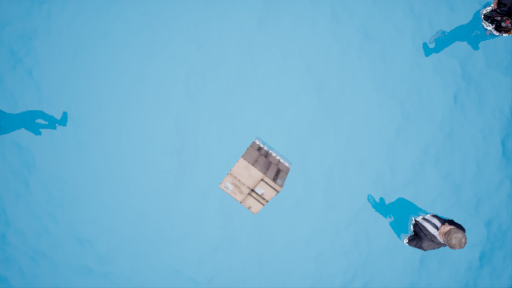person: (375, 193, 476, 250), (426, 3, 512, 63)
